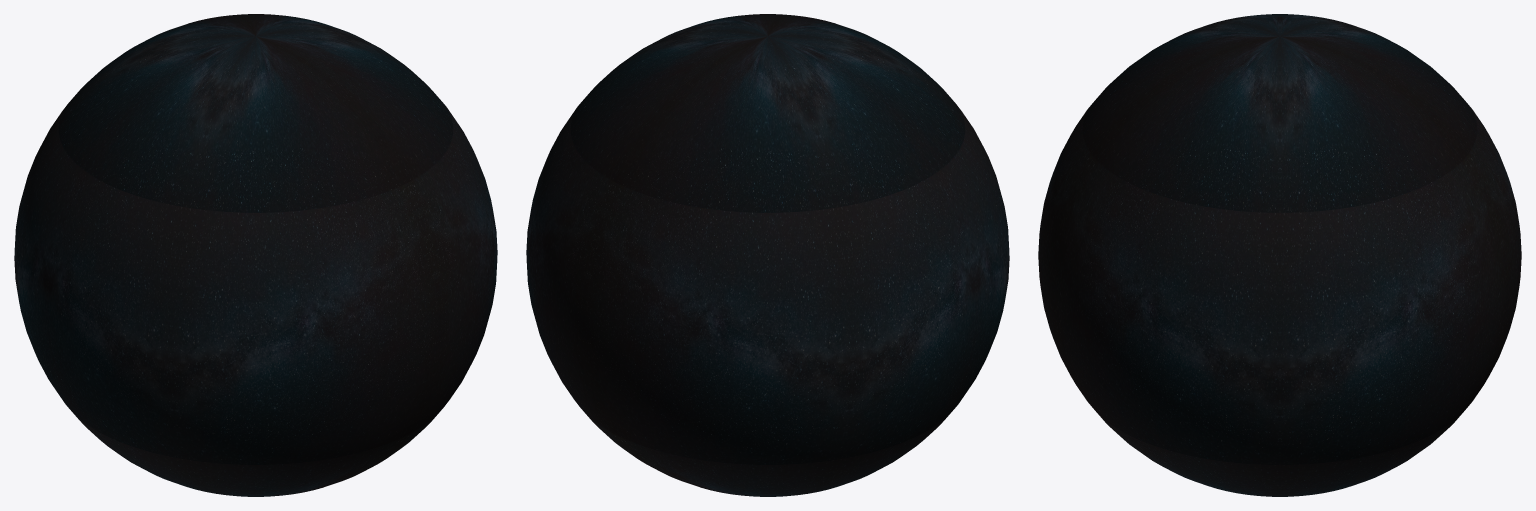
Rendered from Moon.obj.
The picture shows the model from 3 angles, left to right: view 1: azimuth 30°, elevation 25°; view 2: azimuth 150°, elevation 25°; view 3: azimuth 270°, elevation 25°; orthographic projection.
Visible parts, largest first — view 1: OuterSpace.Display; view 2: OuterSpace.Display; view 3: OuterSpace.Display.
Part boxes in pixels (box(x1,y1,x2,y2)): OuterSpace.Display: box(14, 14, 497, 496); OuterSpace.Display: box(526, 14, 1009, 496); OuterSpace.Display: box(1038, 14, 1521, 496).
Bounding box in the file's own units: 1202 × 1202 × 1202.
